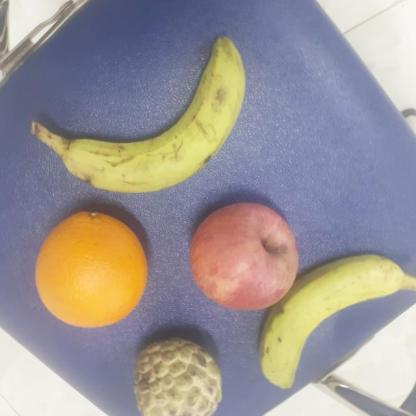annona: (132, 340, 225, 416)
apple: (185, 201, 300, 312)
banana: (57, 32, 250, 199), (253, 251, 411, 398)
orange: (34, 212, 153, 329)
